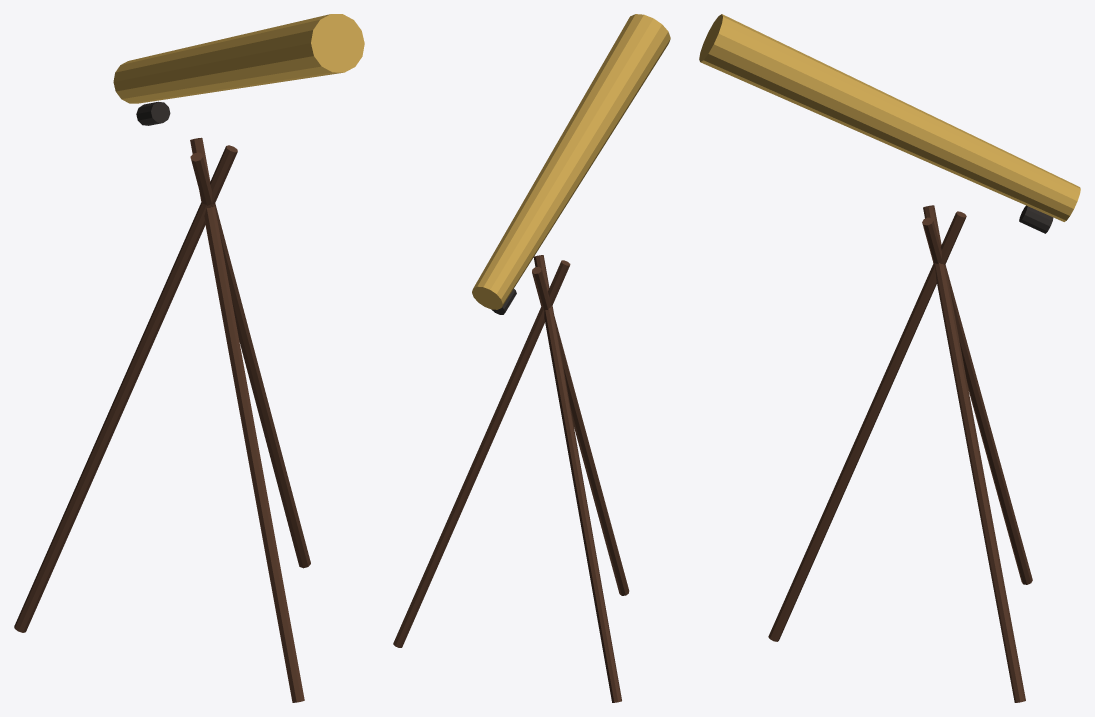
Rendered from hh_telescope.glb.
3 renders of one model, left to right at view 1: azimuth 30°, elevation 25°; view 2: azimuth 150°, elevation 25°; view 3: azimuth 270°, elevation 25°, orthographic. The views are drawn at different scales.
Parts seen in each view (by area): view 1: tube, tripod_leg.001, tripod_leg.002, tripod_leg, eyepiece; view 2: tube, tripod_leg.001, tripod_leg, tripod_leg.002; view 3: tube, tripod_leg, tripod_leg.002, tripod_leg.001, eyepiece.
Part boxes in pixels (x1=…): tube: x1=113, y1=14, x2=364, y2=103; tripod_leg.001: x1=14, y1=145, x2=237, y2=632; tripod_leg.002: x1=190, y1=137, x2=304, y2=702; tripod_leg: x1=190, y1=152, x2=310, y2=568; eyepiece: x1=136, y1=101, x2=170, y2=125; tube: x1=472, y1=14, x2=670, y2=309; tripod_leg.001: x1=533, y1=255, x2=621, y2=702; tripod_leg: x1=393, y1=260, x2=570, y2=647; tripod_leg.002: x1=532, y1=267, x2=629, y2=595; tube: x1=699, y1=14, x2=1080, y2=221; tripod_leg: x1=923, y1=205, x2=1025, y2=702; tripod_leg.002: x1=768, y1=211, x2=966, y2=641; tripod_leg.001: x1=922, y1=217, x2=1032, y2=584; eyepiece: x1=1019, y1=205, x2=1053, y2=233.
Size of the model in its own units: 0.6156 by 1.43 by 0.7917.
